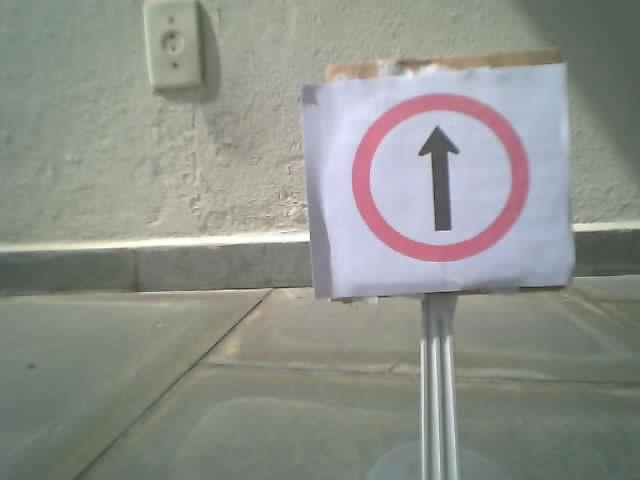R-26_frente: (352, 93, 527, 260)
